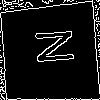N: (24, 27, 74, 66)
